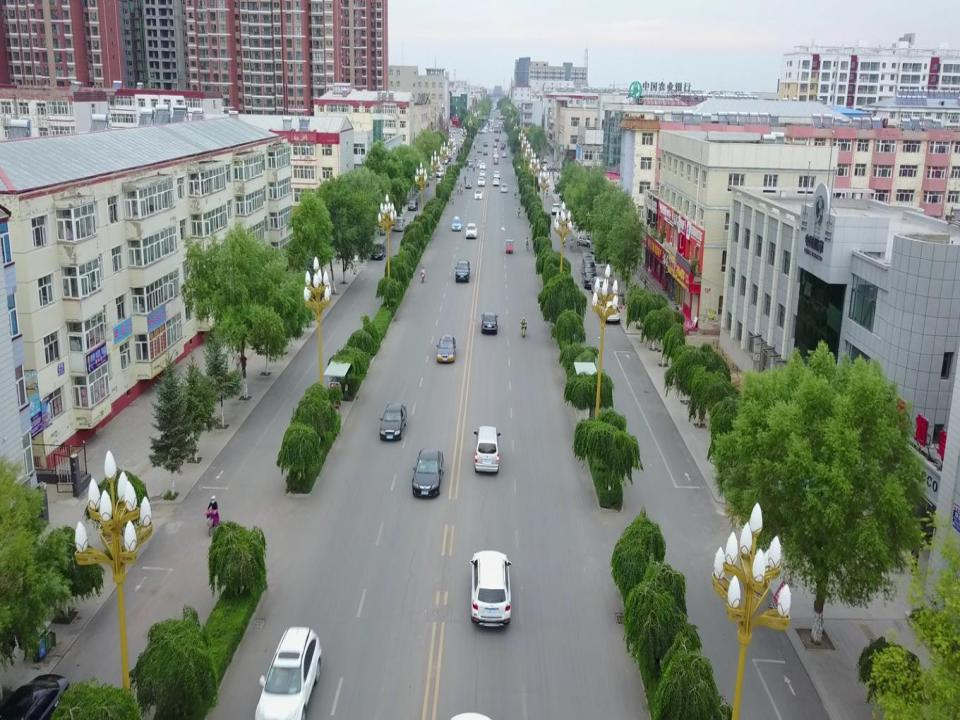car: (254, 623, 322, 720), (0, 673, 72, 719), (470, 550, 512, 626), (412, 448, 444, 497), (380, 403, 406, 440), (436, 334, 456, 363), (598, 301, 620, 323), (481, 312, 498, 334), (589, 239, 611, 254), (455, 260, 470, 282), (582, 271, 598, 288), (371, 242, 386, 260), (577, 234, 595, 248), (465, 223, 477, 239), (451, 216, 462, 231), (552, 202, 560, 216)
van: (474, 426, 501, 474), (582, 253, 597, 278), (591, 276, 608, 298), (394, 216, 405, 231), (408, 197, 417, 210)
